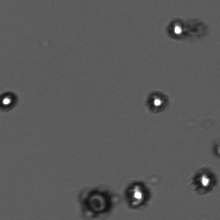Dead Cell: (79, 186, 117, 216), (186, 15, 206, 44)
Living Cell: (144, 86, 170, 115), (124, 179, 150, 208), (191, 165, 217, 194), (166, 16, 187, 41), (1, 87, 20, 113)
